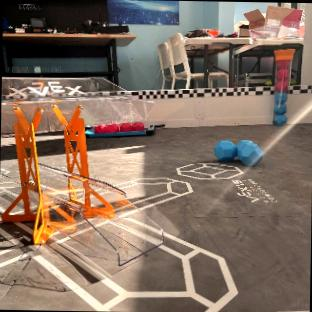Med_goal: (0, 75, 163, 260)
V5_BLUE: (215, 139, 262, 165), (274, 91, 286, 125)
V5_RED: (274, 50, 292, 123), (93, 122, 144, 132), (276, 66, 288, 90)
